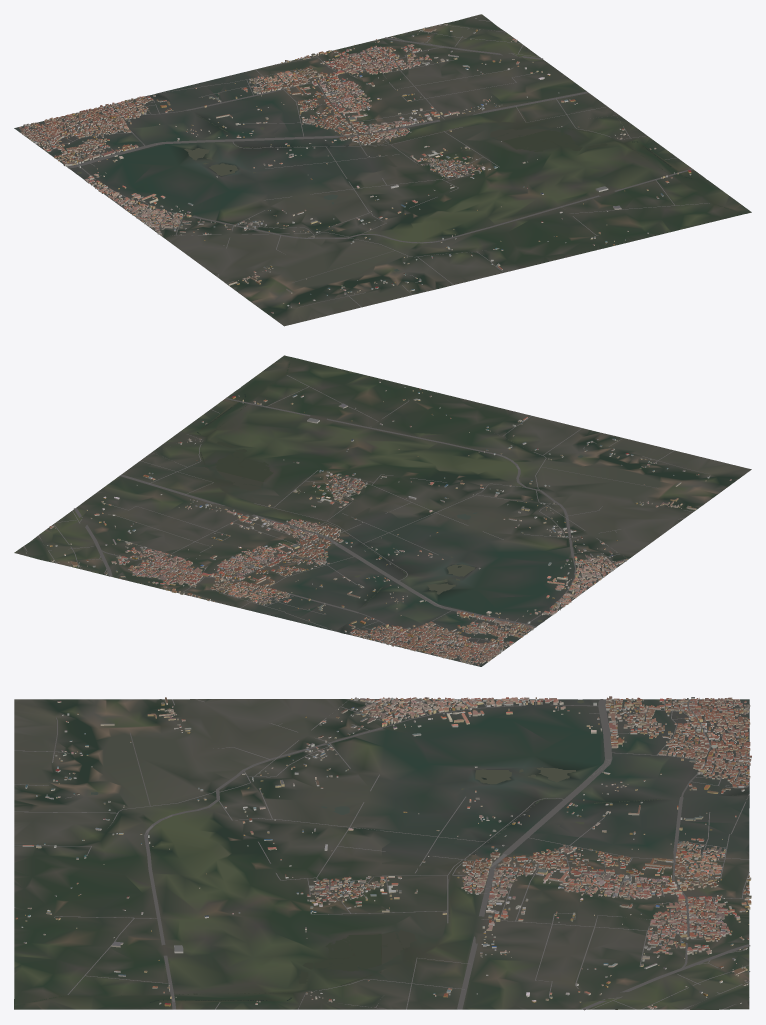
The picture shows the model from 3 angles, top to bottom: view 1: azimuth 30°, elevation 25°; view 2: azimuth 150°, elevation 25°; view 3: azimuth 270°, elevation 25°; orthographic projection. The views are drawn at different scales.
Parts seen in each view (by area): view 1: ground, buildings, roads, water; view 2: ground, buildings, roads, water; view 3: ground, buildings, roads, water.
Part boxes in pixels (x1,y1,x2,y2): ground: (14, 14, 751, 326); buildings: (19, 18, 691, 313); roads: (36, 20, 709, 308); water: (66, 96, 746, 271); ground: (14, 355, 751, 666); buildings: (26, 381, 731, 665); roads: (24, 375, 708, 662); water: (63, 358, 583, 627); ground: (14, 699, 749, 1009); buildings: (15, 696, 751, 1009); roads: (14, 699, 750, 1010); water: (17, 700, 737, 1009).
Bounding box in the file's own units: 2813 × 20.61 × 2814.
